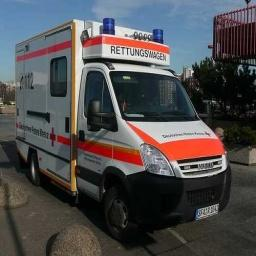Ambulance: (15, 18, 230, 239)
